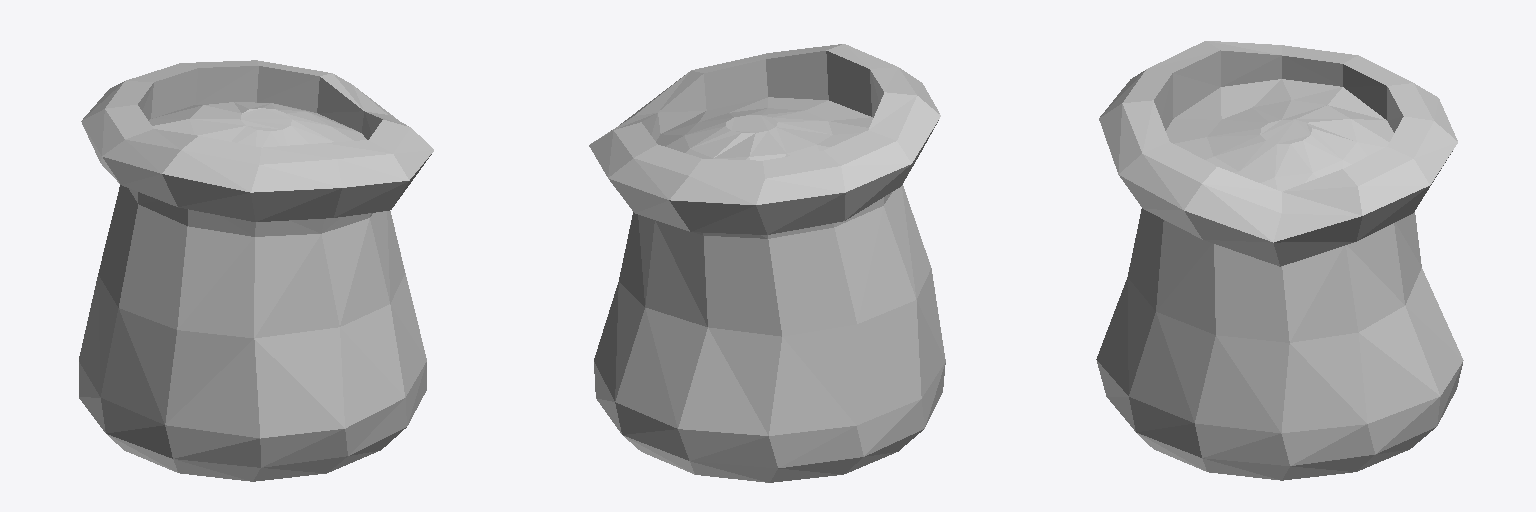
File: Bag_2.obj
3 renders of one model, left to right at view 1: azimuth 30°, elevation 25°; view 2: azimuth 150°, elevation 25°; view 3: azimuth 270°, elevation 25°, orthographic.
Parts seen in each view (by area): view 1: Bag_2; view 2: Bag_2; view 3: Bag_2.
Boxes of the visible parts, box(x1,y1,x2,y2) form: Bag_2: box(79, 60, 433, 481); Bag_2: box(589, 44, 945, 482); Bag_2: box(1096, 41, 1463, 480).
Bounding box in the file's own units: 0.6191 × 0.6248 × 0.6376.